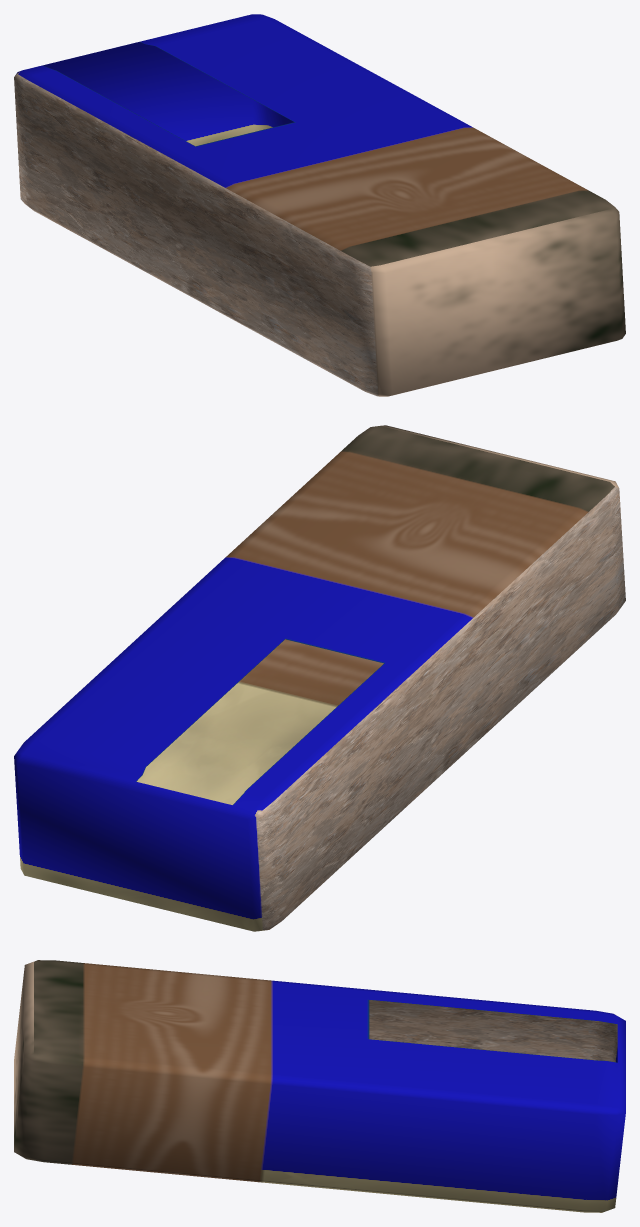
Rendered from stair.fbx.
3 renders of one model, top to bottom at view 1: azimuth 30°, elevation 25°; view 2: azimuth 150°, elevation 25°; view 3: azimuth 270°, elevation 25°, orthographic. The views are drawn at different scales.
Parts seen in each view (by area): view 1: stair; view 2: stair; view 3: stair.
Part boxes in pixels (x1=…): stair: x1=14, y1=14, x2=625, y2=396; stair: x1=14, y1=425, x2=625, y2=931; stair: x1=14, y1=960, x2=625, y2=1212.
Bounding box in the file's own units: 79.67 × 57.48 × 203.
